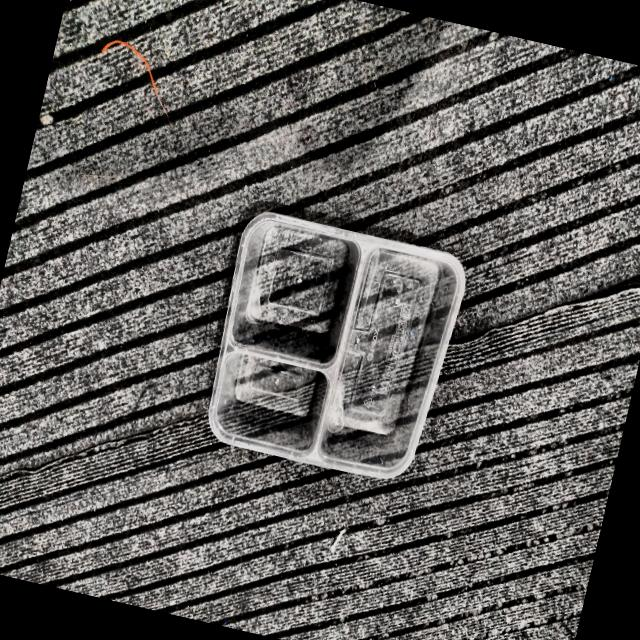plastic container: (208, 212, 465, 478)
